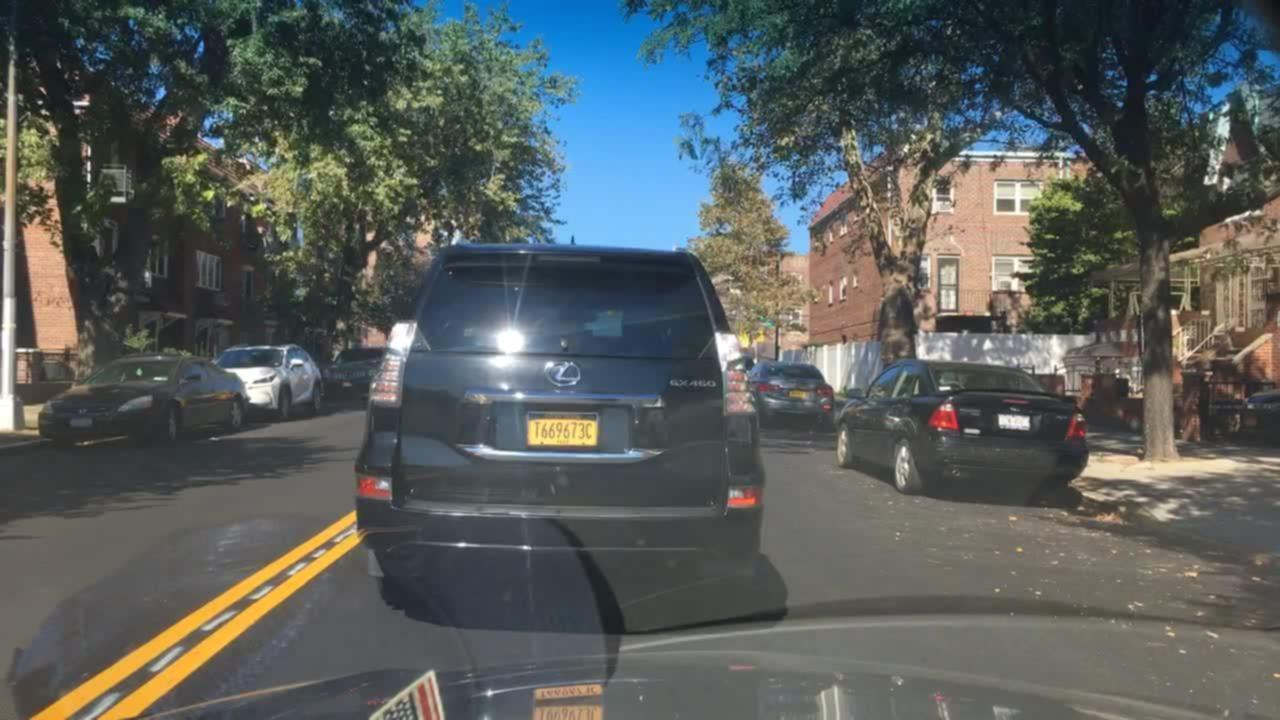lexus: (541, 358, 591, 394)
